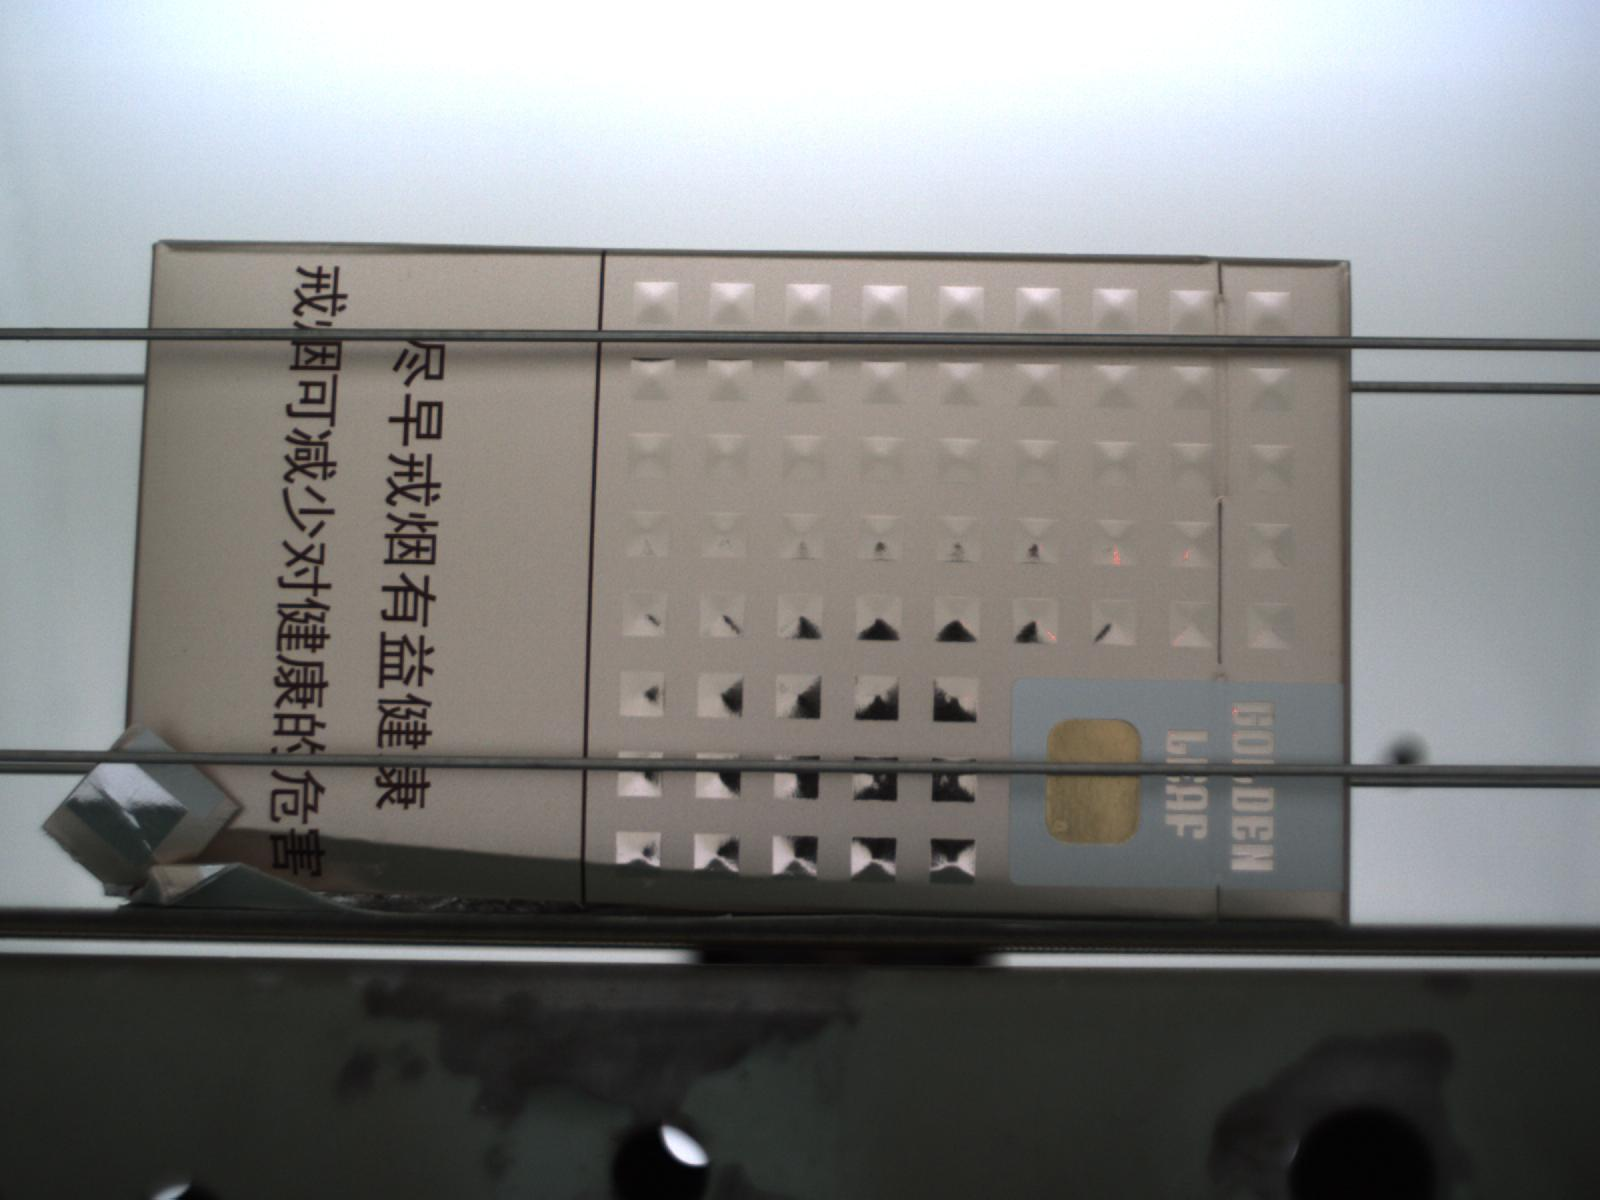dirtyScratch: (132, 823, 1186, 928)
skewed_upper_2: (39, 724, 247, 905)
